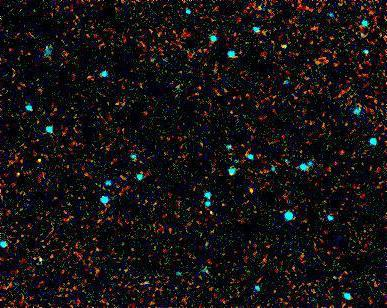star: (4, 164, 34, 194)
